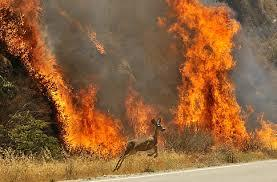fire: (1, 0, 124, 157), (155, 0, 256, 148)
